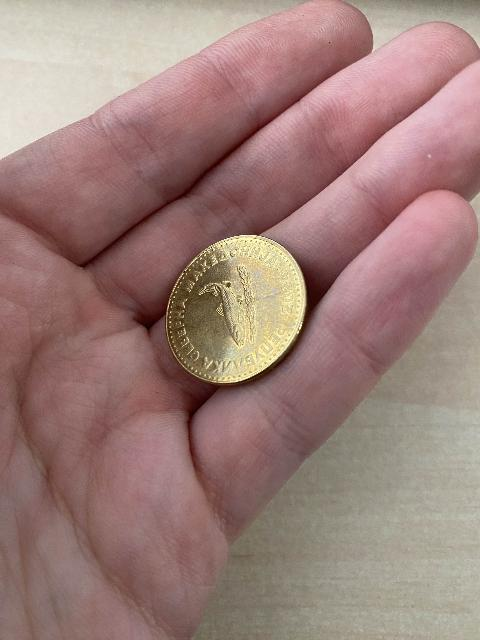2_coin: (166, 236, 306, 384)
